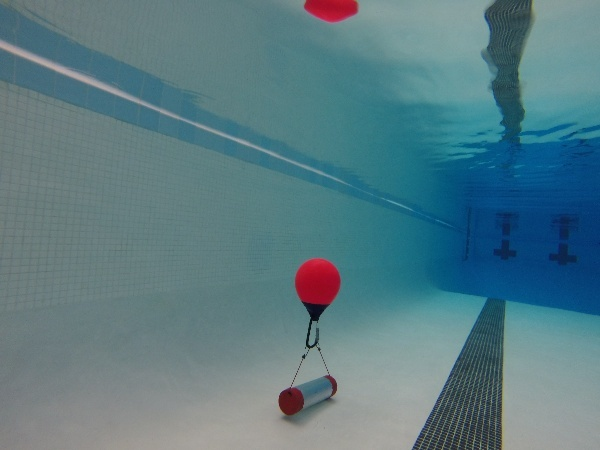buoy_red: (290, 254, 344, 326)
